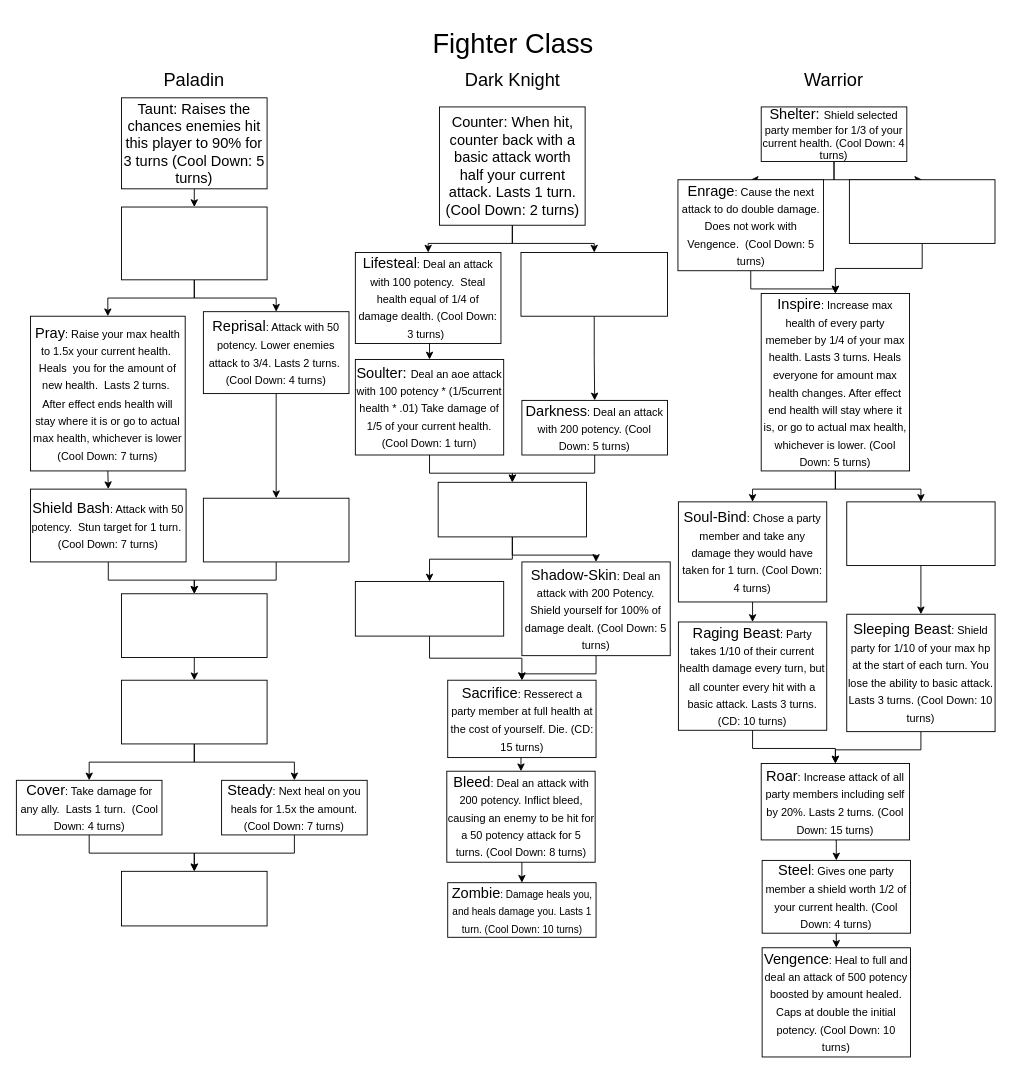
Some shapes in this 1011 by 1073 pixel diagram are drawn without their labels. The box of each missing label's shape, as (x1, y1, x2, y2) in pixels:
Blade Dance : Attack with a potency of 400. (Cool Down: 6 turns): (121, 679, 267, 744)
Cleave : Deal an attack with 300 potency (Cool Down: 5 turns): (354, 581, 504, 636)
Defy : Next basic attack, attacks twice. (Cool Down: 3 turns): (520, 252, 667, 316)
Quick Slash : Deal two attacks of 100 potency each. (Cool Down: 4 turns): (848, 179, 995, 243)
Sentinal : Shield yourself for 1/2 of your max health. (Cool Down: 10 turns): (121, 593, 267, 657)
Sheild : Shield yourself for 1/3 of your max health (Cool Down: 4 turns): (121, 206, 267, 280)
Shield Throw : Attack an enemy with a potency of 300. (Cool Down: 5 turns): (846, 501, 995, 566)
Slash : Attack with a potency of 200. (Cool Down: 5 turns): (202, 497, 349, 562)
Vampire: Next 3 turns, heal for 1/2 of damage dealt. (Cool Down: 9 turns): (437, 481, 586, 537)
Wall : Take 0 damage. Lasts 1 turn. (Cool Down: 15 turns): (121, 870, 267, 926)
